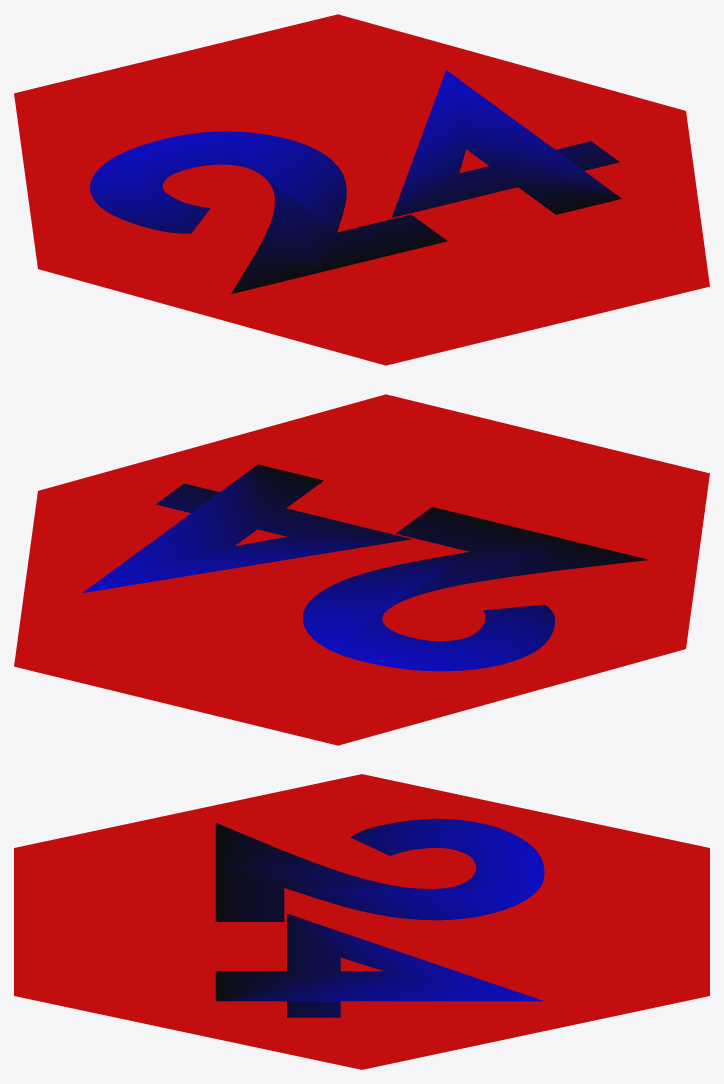
The model's file is SM_Number_24.fbx.
3 views of the same model, one above another, from view 1: azimuth 30°, elevation 25°; view 2: azimuth 150°, elevation 25°; view 3: azimuth 270°, elevation 25° (orthographic). The views are drawn at different scales.
Visible parts, largest first — view 1: FBX_OUT; view 2: FBX_OUT; view 3: FBX_OUT.
Boxes of the visible parts, x1,y1,x2,y2 form: FBX_OUT: (14, 14, 709, 365); FBX_OUT: (14, 394, 709, 745); FBX_OUT: (14, 774, 709, 1069).
Size of the model in its own units: 50 by 0.2917 by 49.71.
